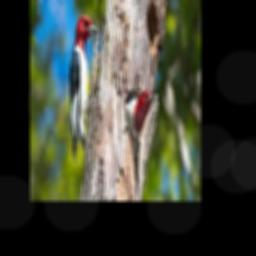Woodpecker: (69, 16, 99, 163), (124, 87, 154, 168)
